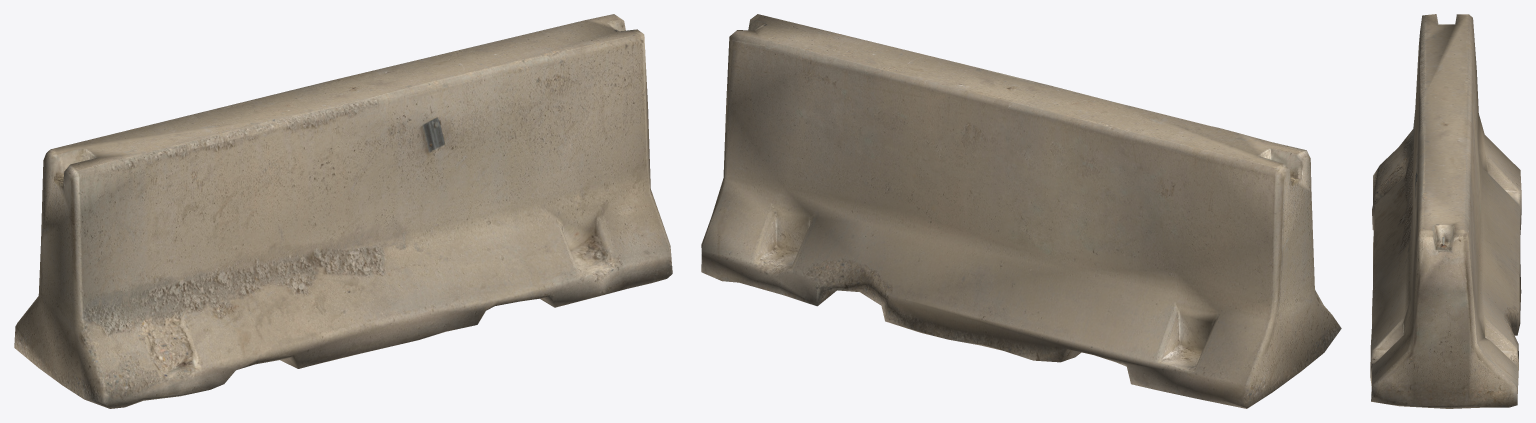
Rendered from concrete_barrier_tlnwdhjfa_low.glb.
3 renders of one model, left to right at view 1: azimuth 30°, elevation 25°; view 2: azimuth 150°, elevation 25°; view 3: azimuth 270°, elevation 25°, orthographic. The views are drawn at different scales.
Parts seen in each view (by area): view 1: tlnwdhjfa_LOD0_TIER3_000; view 2: tlnwdhjfa_LOD0_TIER3_000; view 3: tlnwdhjfa_LOD0_TIER3_000.
Boxes of the visible parts, box(x1,y1,x2,y2) form: tlnwdhjfa_LOD0_TIER3_000: box(14, 14, 672, 408); tlnwdhjfa_LOD0_TIER3_000: box(701, 14, 1341, 408); tlnwdhjfa_LOD0_TIER3_000: box(1370, 14, 1521, 408).
Bounding box in the file's own units: 1.7 × 0.6507 × 0.4906.
Materials: 1 (1 with a texture image).
